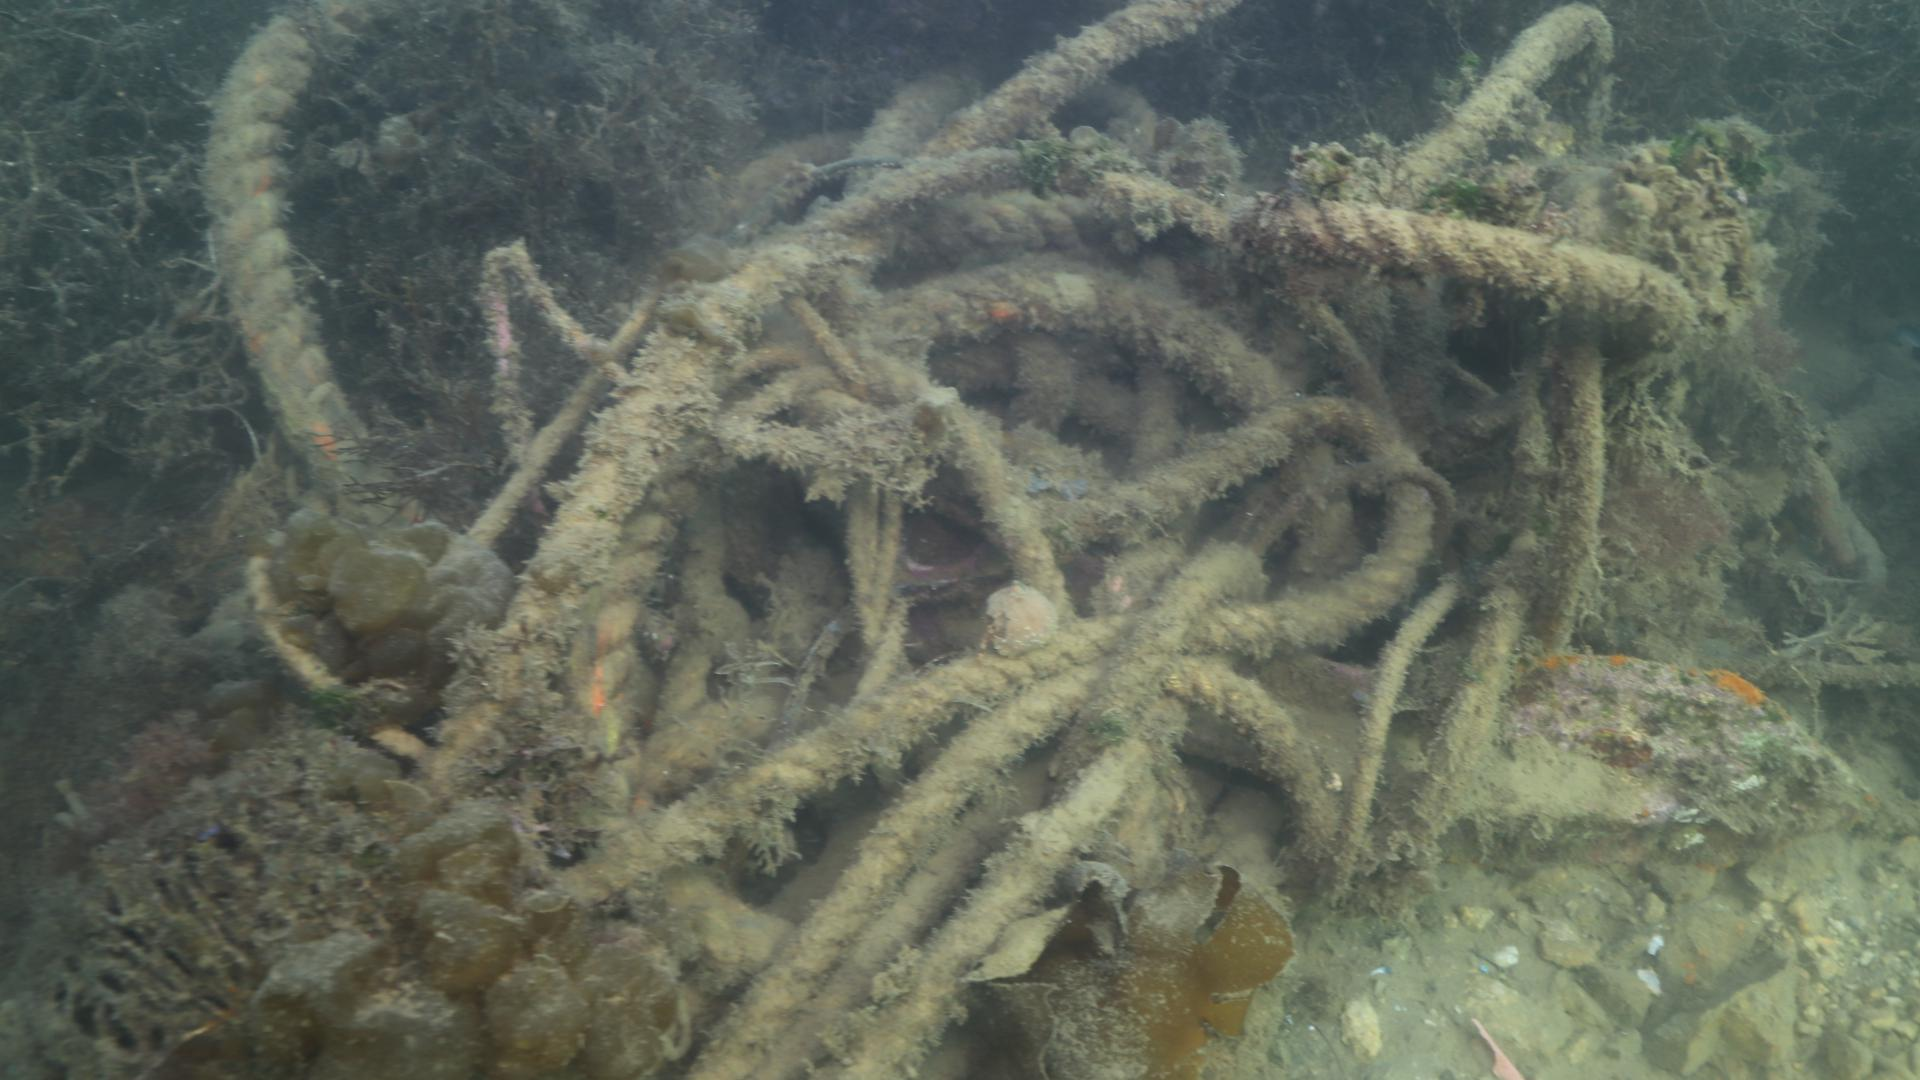bundle of ropes: (195, 0, 1895, 1080)
